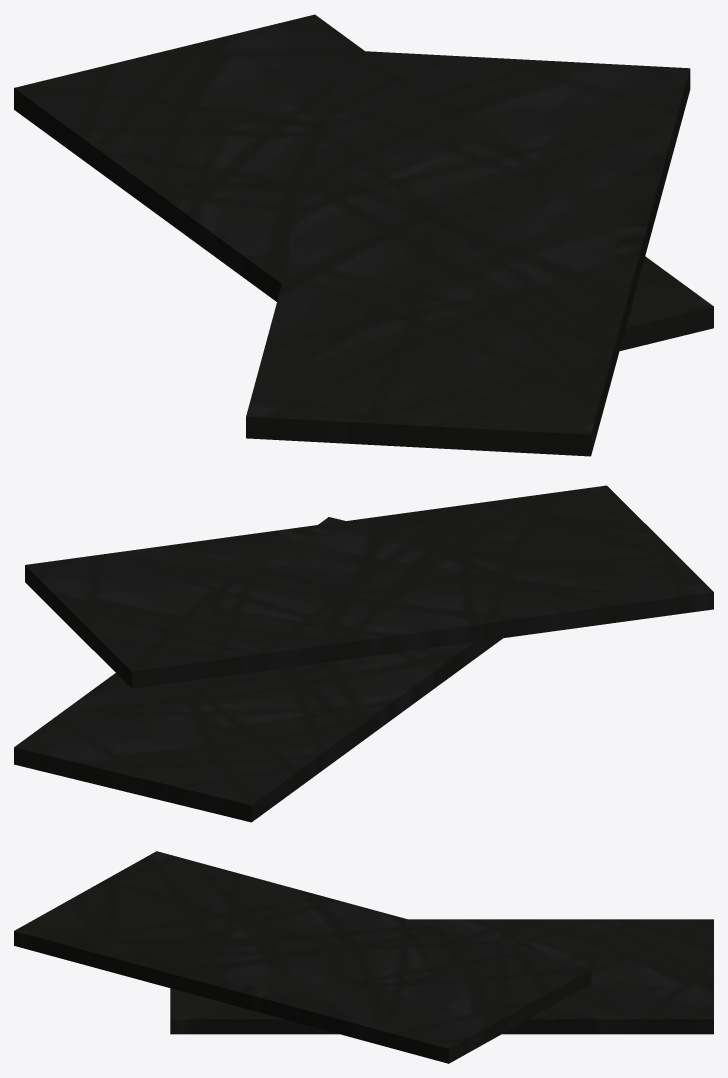
The model's file is Seaweed.fbx.
The picture shows the model from 3 angles, top to bottom: view 1: azimuth 30°, elevation 25°; view 2: azimuth 150°, elevation 25°; view 3: azimuth 270°, elevation 25°; orthographic projection. The views are drawn at different scales.
Visible parts, largest first — view 1: Plane; view 2: Plane; view 3: Plane.
Part boxes in pixels (x1,y1,x2,y2): Plane: [14, 14, 713, 456]; Plane: [14, 485, 713, 822]; Plane: [14, 851, 713, 1063].
Size of the model in its own units: 0.2849 by 0.0274 by 0.385.
